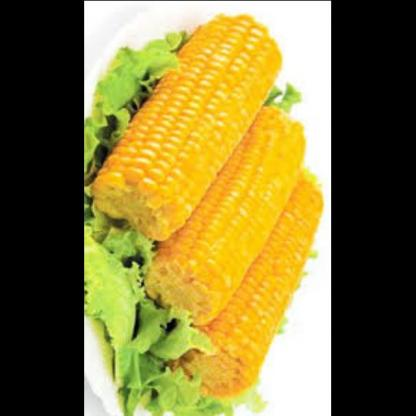corn: (98, 18, 288, 242), (177, 164, 328, 411), (145, 106, 309, 326)
